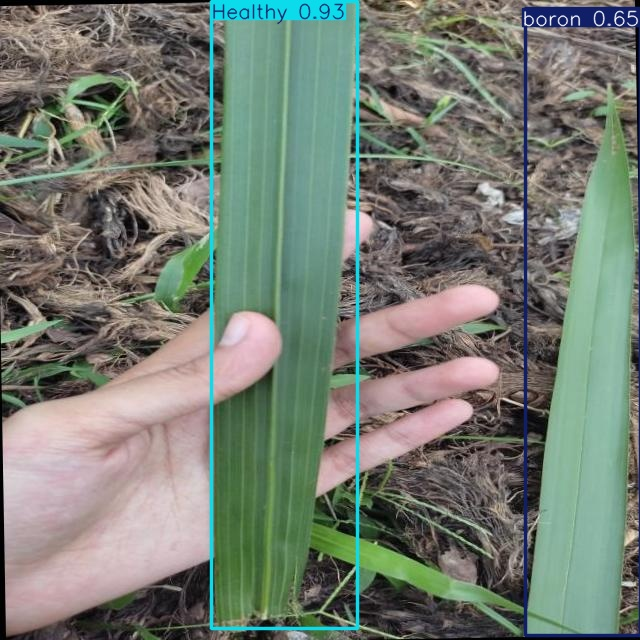Healthy: (212, 1, 358, 628)
nitrogen: (525, 9, 640, 635)
